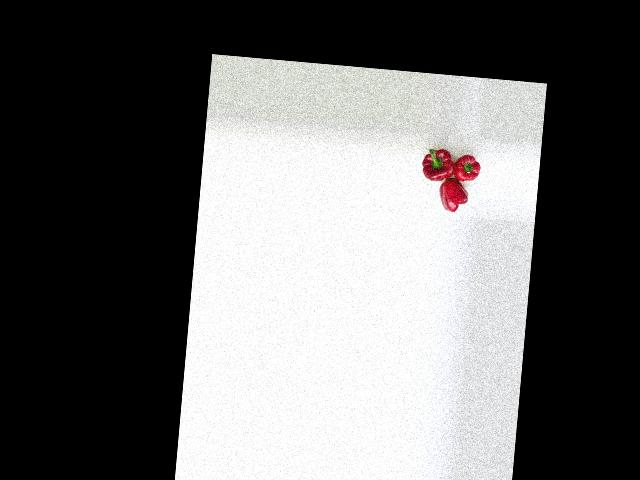bell_pepper: (434, 175, 475, 217)
